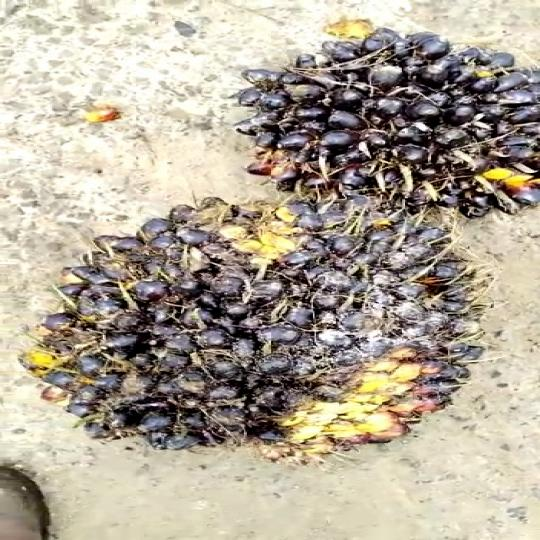mentah: (44, 199, 485, 454), (227, 15, 540, 210)
